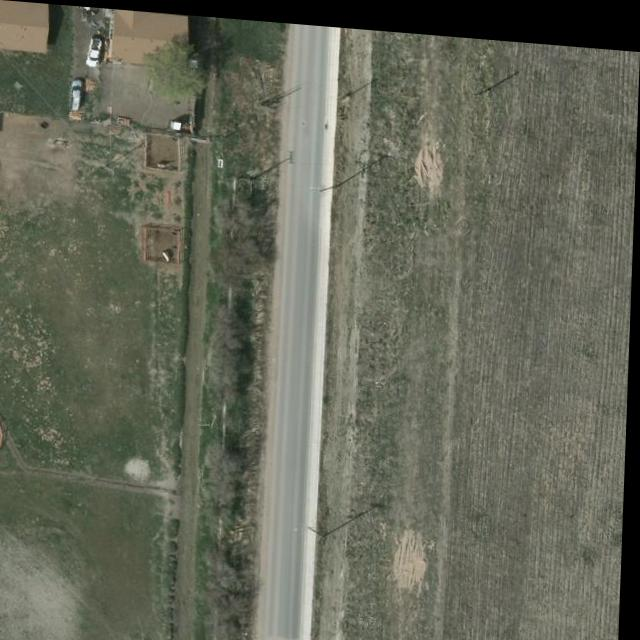vehicle: (70, 77, 84, 111), (87, 36, 102, 67)
